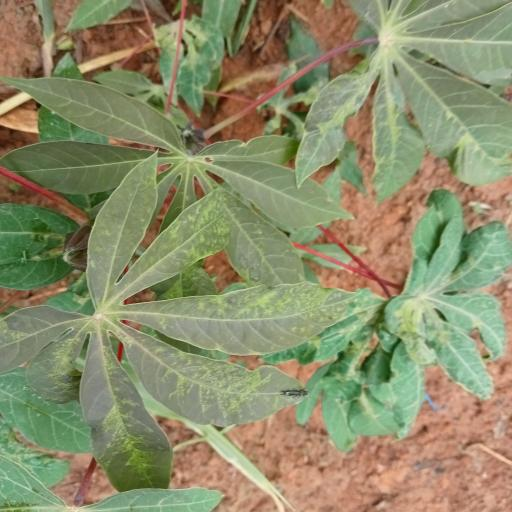Cassava_Mosaic: (32, 171, 337, 480), (17, 73, 351, 300)
